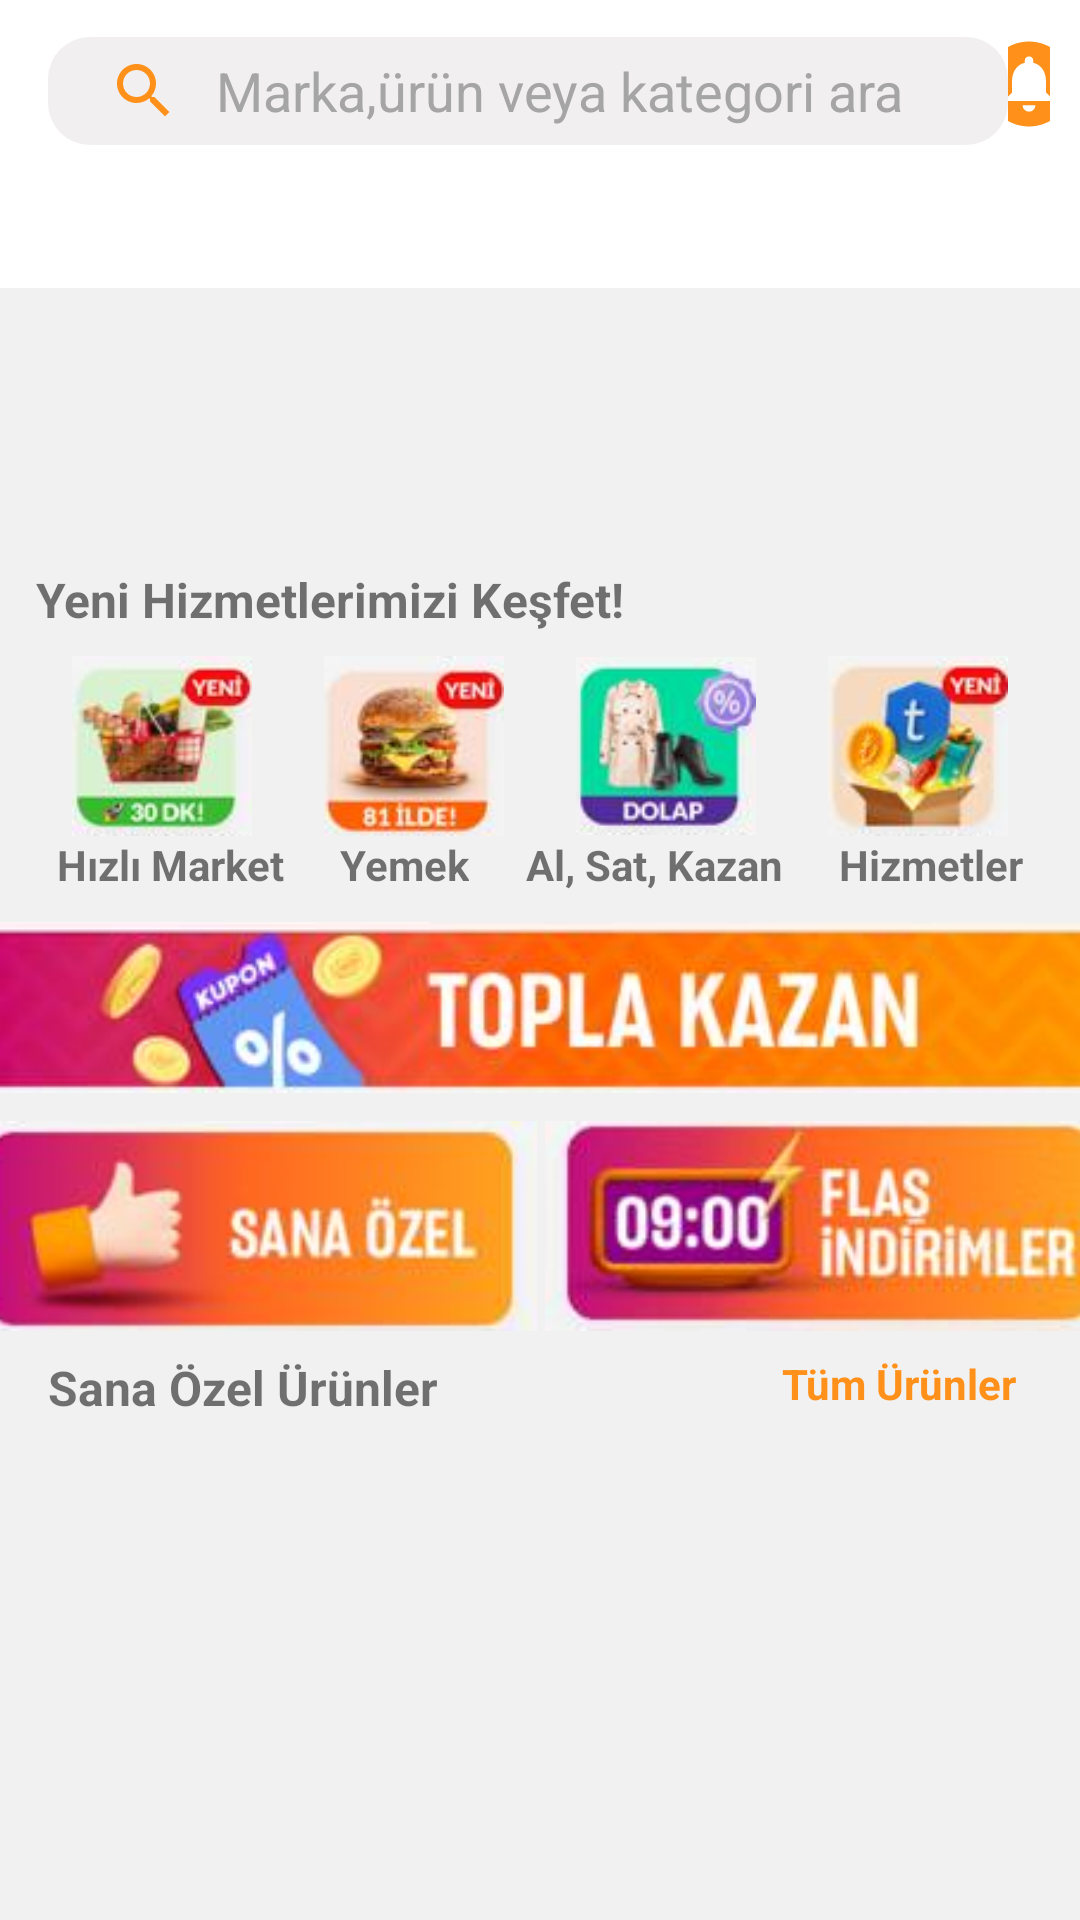

Where to tap for icons on this 1080x1920 app screen, as [x,y]:
notification: [1029,84]
